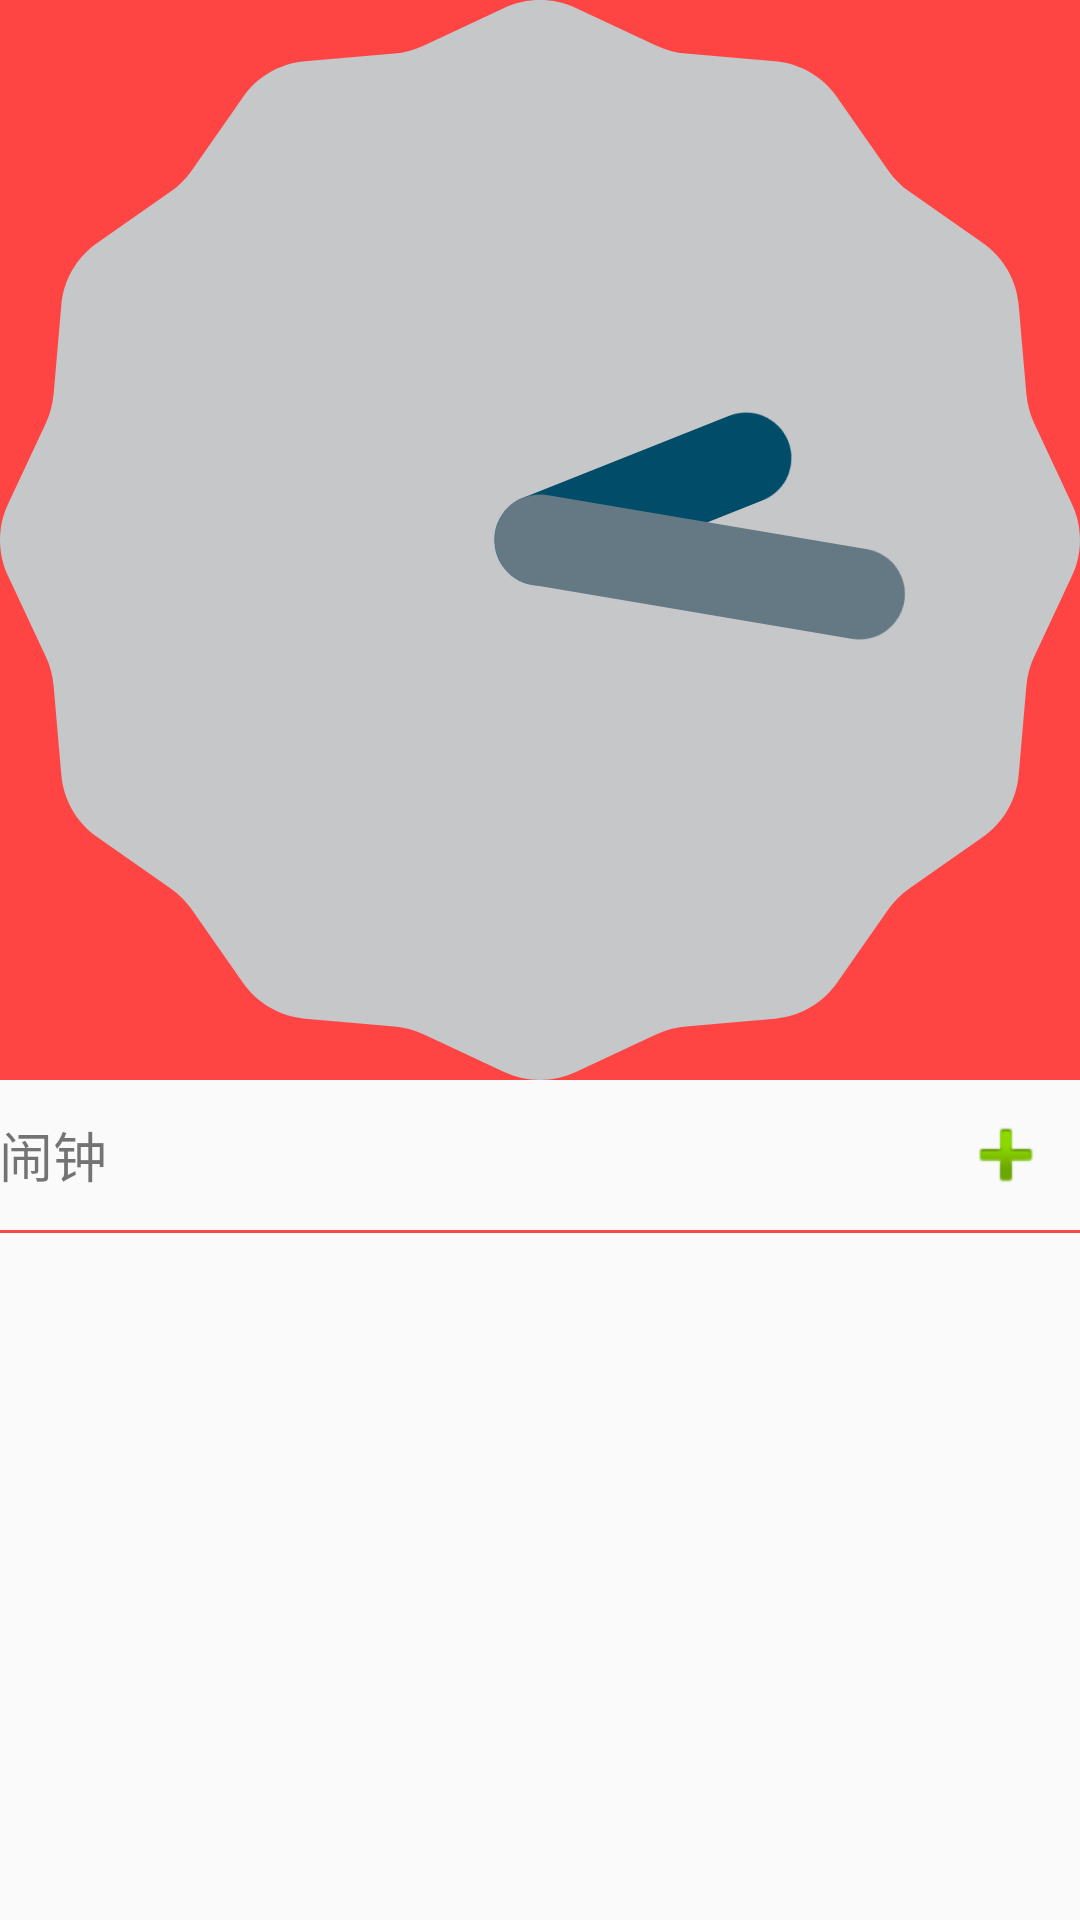

Where icons sit on this 1080×1920 app screen, as bbox(x1, y1, x2, y2):
add: bbox(979, 1128, 1033, 1182)
